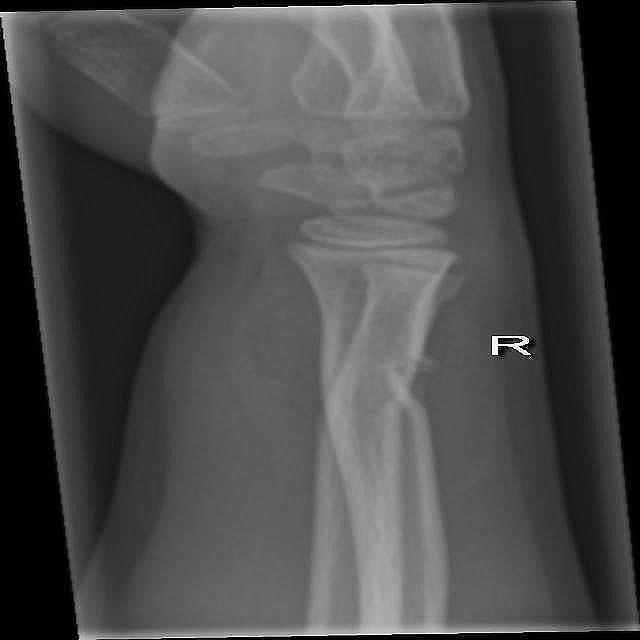bone: (311, 348, 444, 439), (360, 286, 462, 308)
